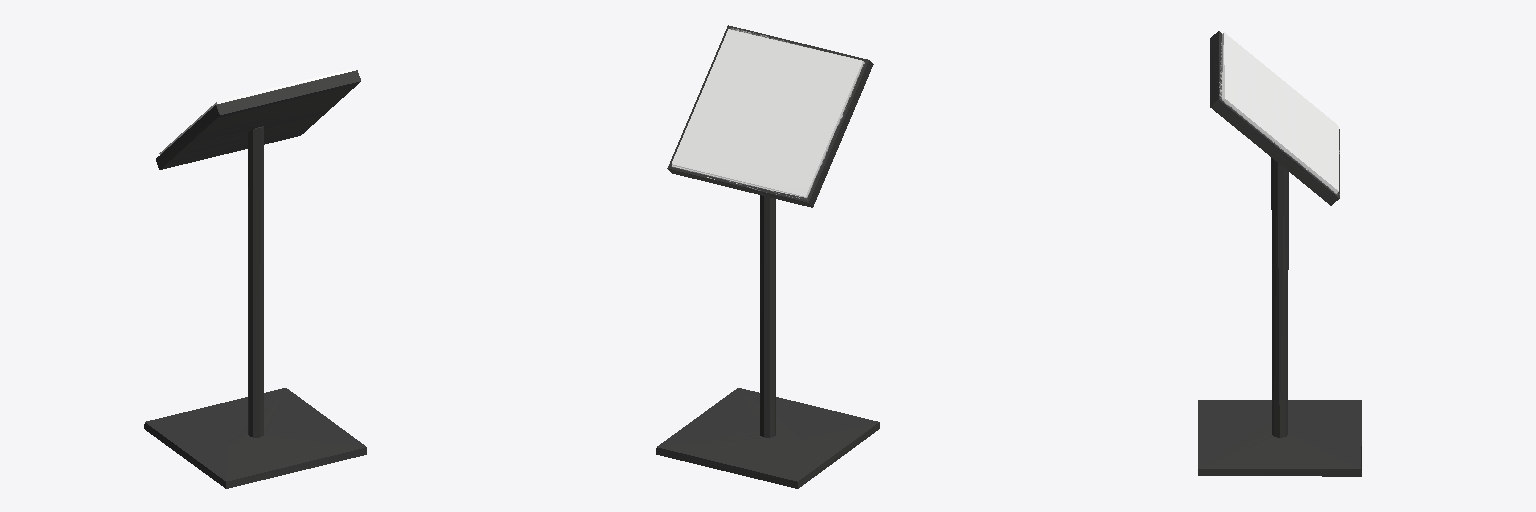
3 renders of one model, left to right at view 1: azimuth 30°, elevation 25°; view 2: azimuth 150°, elevation 25°; view 3: azimuth 270°, elevation 25°, orthographic.
Visible parts, largest first — view 1: 300633_23_06_15_13_20_45_0; view 2: 300633_23_06_15_13_20_45_0; view 3: 300633_23_06_15_13_20_45_0.
Boxes of the visible parts, x1=… form: 300633_23_06_15_13_20_45_0: x1=144, y1=69, x2=366, y2=488; 300633_23_06_15_13_20_45_0: x1=656, y1=25, x2=879, y2=488; 300633_23_06_15_13_20_45_0: x1=1198, y1=31, x2=1361, y2=476.
Bounding box in the file's own units: 1.6 × 4.13 × 1.6.
1 materials, 1 textured.